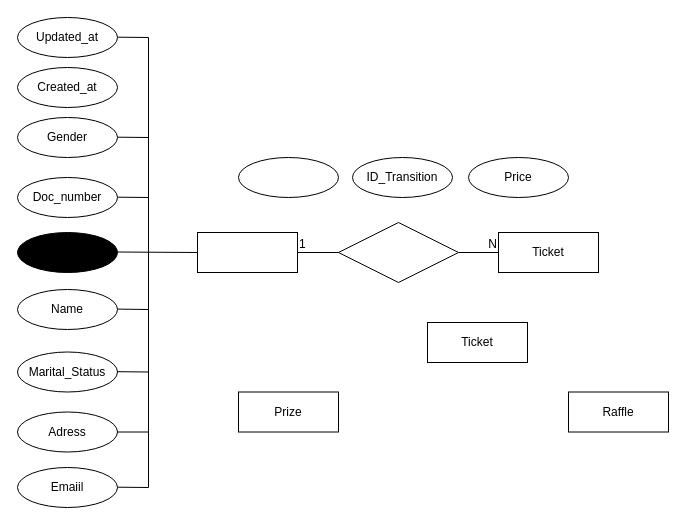
This 686x525 diagram has some shape labels left out. Here are the shapes that lost their labels. From the top down, the centre of each, then its label:
At point 288,177: "payment_method".
At point 247,252: "User".
At point 398,252: "Compra".
